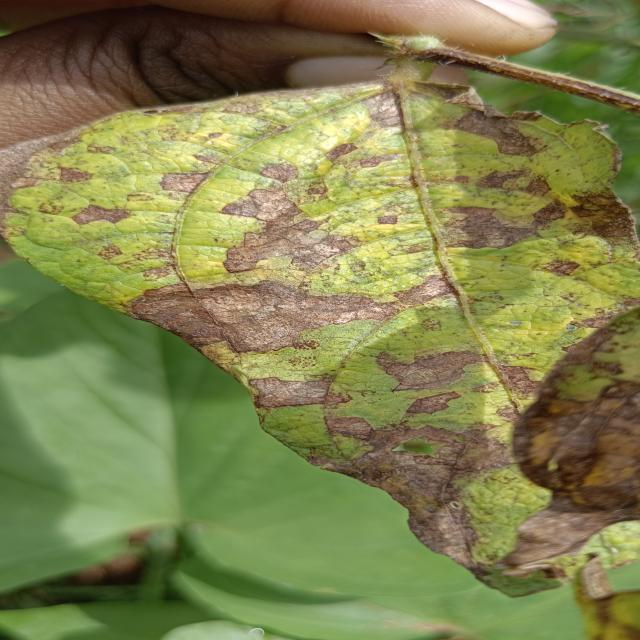Black gram_leaf spot: (0, 66, 640, 615)
